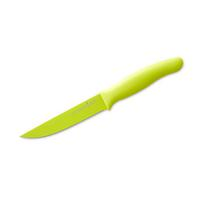knife: (18, 54, 188, 150)
